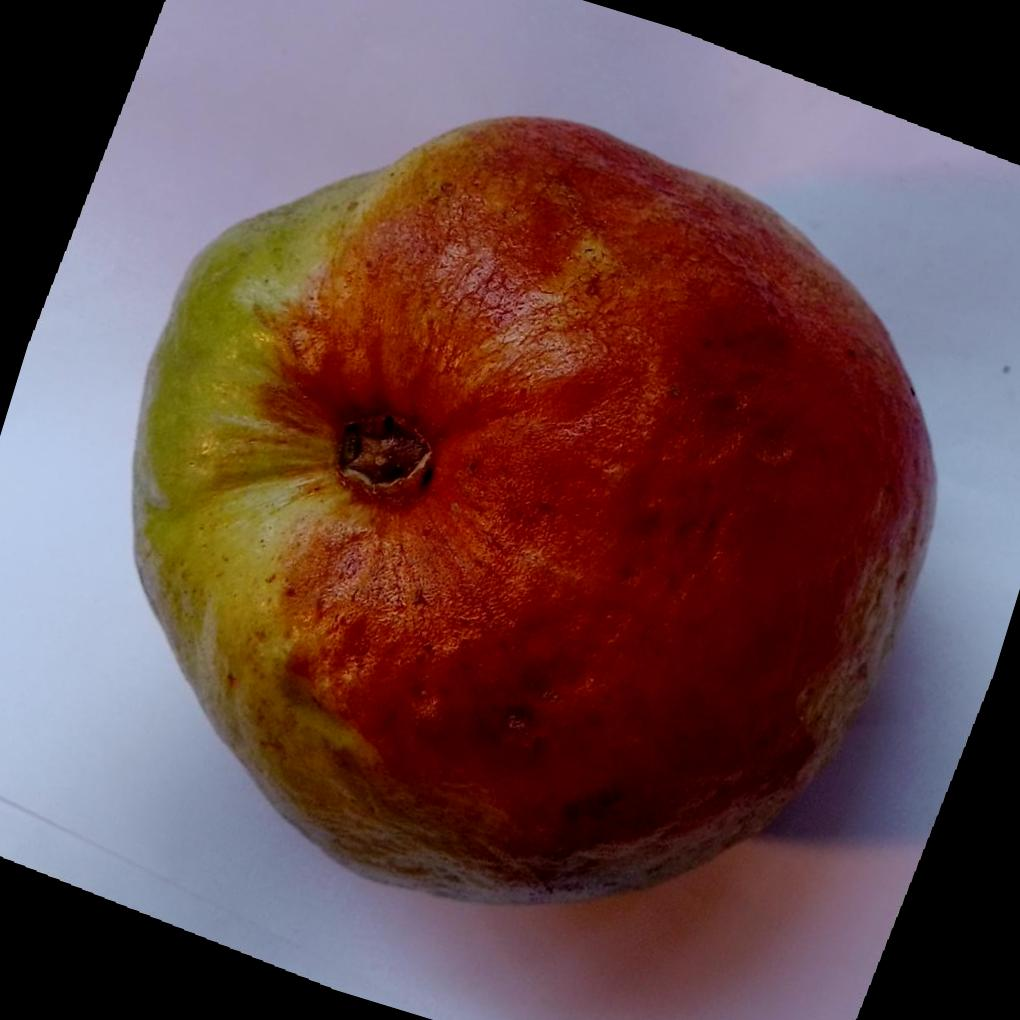FreshOrange: (132, 114, 941, 908)
